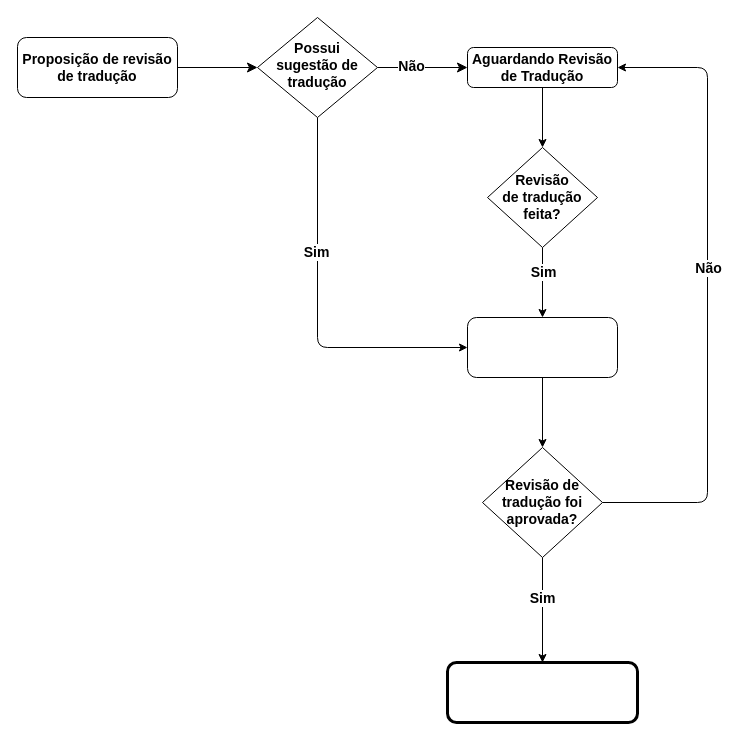
The diagram is 738 pixels wide and 741 high, and some of its shapes have lost their labels. Here are the shapes that lost their labels. From the top down, the centre of each, then its label:
At [542,347]: "Aguardando Avaliação da Revisão de Tradução".
At [542,692]: "Publicação da Revisão de Tradução".
